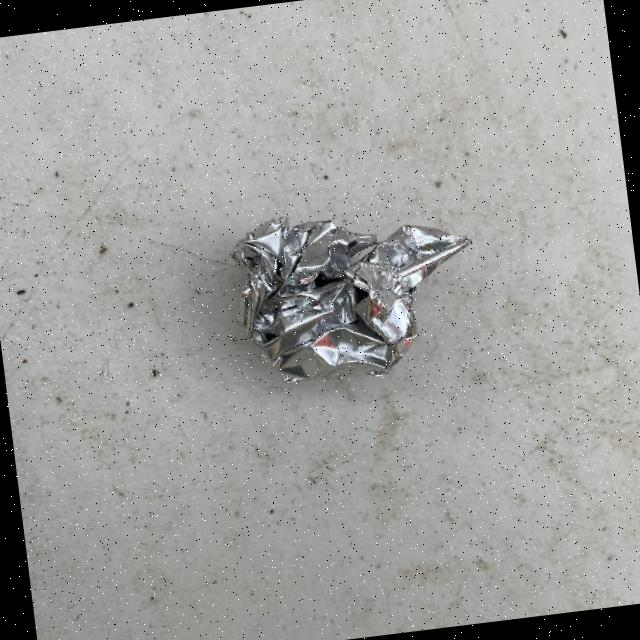metal: (226, 192, 487, 392)
